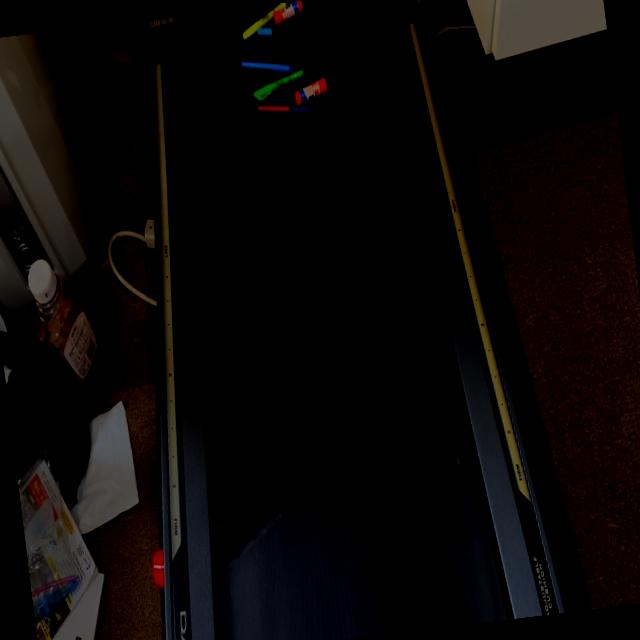Trash: (250, 66, 309, 102), (237, 2, 290, 40), (254, 20, 310, 48), (238, 51, 295, 78), (256, 96, 314, 122), (292, 75, 330, 107), (269, 0, 305, 21)
